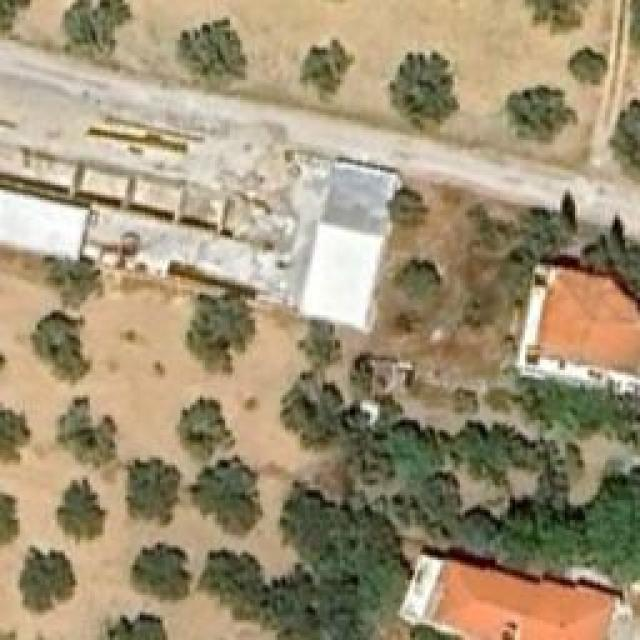Tree: (390, 50, 458, 138), (193, 458, 263, 541), (58, 400, 128, 468), (195, 550, 265, 615), (177, 18, 245, 78), (508, 85, 578, 143), (193, 295, 248, 365), (65, 0, 130, 58), (125, 460, 183, 525), (33, 317, 86, 385), (20, 548, 75, 611), (132, 542, 190, 600), (385, 418, 438, 481), (300, 38, 348, 101), (58, 480, 108, 538), (610, 100, 640, 185), (393, 255, 438, 303), (180, 400, 220, 453), (522, 0, 587, 32), (388, 185, 431, 230), (108, 610, 168, 640), (568, 48, 608, 91), (455, 508, 495, 551), (0, 410, 30, 465)
